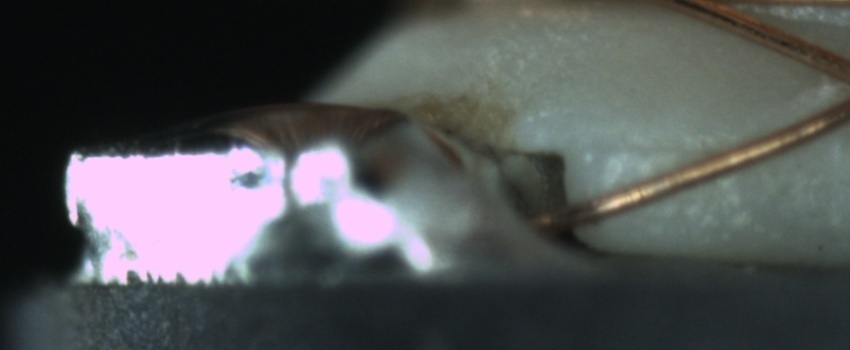DL: (594, 112, 741, 179)
